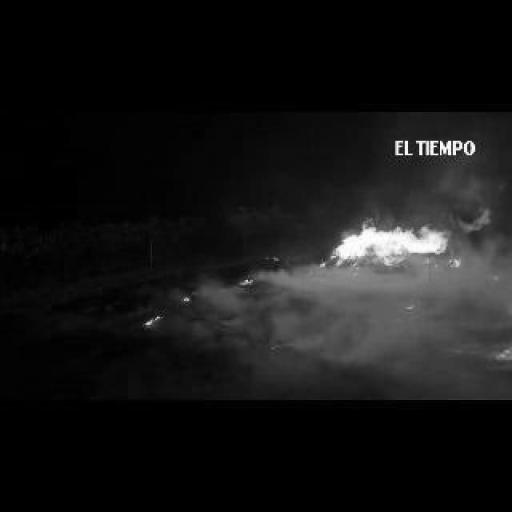smoke: (326, 206, 492, 268), (494, 347, 510, 362), (146, 315, 163, 325), (240, 278, 254, 285), (272, 254, 278, 261), (182, 296, 189, 301), (320, 262, 325, 268)
